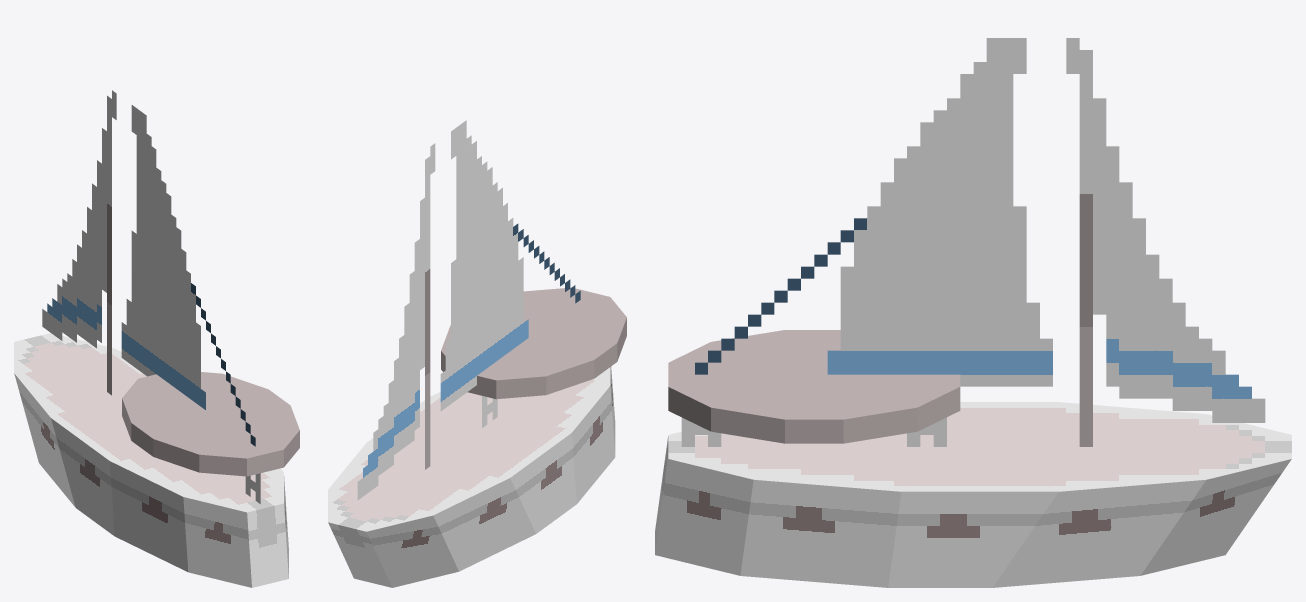
The model's file is boat.gltf.
3 renders of one model, left to right at view 1: azimuth 30°, elevation 25°; view 2: azimuth 150°, elevation 25°; view 3: azimuth 270°, elevation 25°, orthographic. The views are drawn at different scales.
Visible parts, largest first — view 1: cylinder (×2), plane; view 2: cylinder (×2), plane; view 3: cylinder (×2), plane.
Part boxes in pixels (x1=…): cylinder (×2): x1=14, y1=333, x2=299, y2=587; plane: x1=42, y1=90, x2=260, y2=503; cylinder (×2): x1=328, y1=287, x2=626, y2=587; plane: x1=357, y1=120, x2=580, y2=500; cylinder (×2): x1=655, y1=330, x2=1291, y2=587; plane: x1=681, y1=38, x2=1265, y2=446.
Bounding box in the file's own units: 1 × 2.75 × 3.
1 material, 1 textured.
